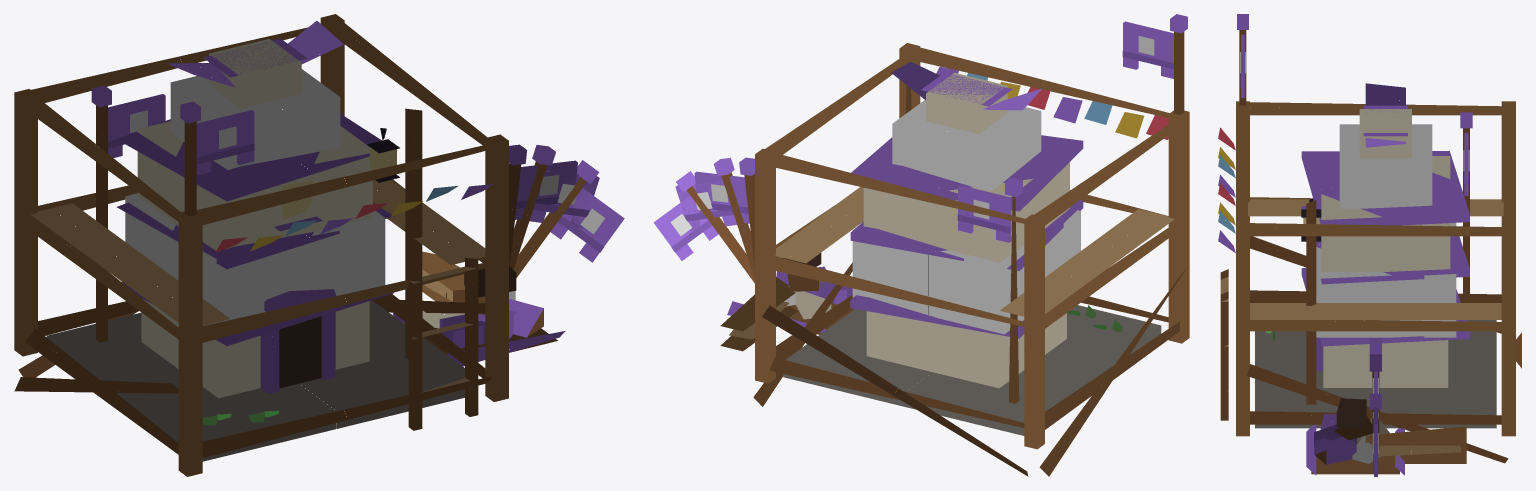
File: moth-home_lod1.glb
The picture shows the model from 3 angles, left to right: view 1: azimuth 30°, elevation 25°; view 2: azimuth 150°, elevation 25°; view 3: azimuth 270°, elevation 25°; orthographic projection. The views are drawn at different scales.
Visible parts, largest first — view 1: scaffold-mesh, built-mesh, dismantle-50-mesh, dismantle-75-mesh, scaffold-banner, dismantle-25-mesh, dismantle-25-banner, flag-pole, banner, dismantle-75-banner, scaffold-flag-pole, dismantle-25-flag-pole (+3 smaller); view 2: scaffold-mesh, built-mesh, dismantle-50-mesh, dismantle-75-mesh, dismantle-25-mesh, scaffold-banner, banner, dismantle-25-banner, flag-pole, dismantle-75-banner, dismantle-25-flag-pole, dismantle-50-banner (+3 smaller); view 3: scaffold-mesh, built-mesh, dismantle-50-mesh, dismantle-75-mesh, dismantle-25-mesh, flag-pole, scaffold-flag-pole, banner, scaffold-banner.
Part boxes in pixels (<box>): scaffold-mesh: <box>14,14,508,476</box>; built-mesh: <box>116,21,422,425</box>; dismantle-50-mesh: <box>47,300,557,441</box>; dismantle-75-mesh: <box>117,175,565,461</box>; scaffold-banner: <box>196,110,254,175</box>; dismantle-25-mesh: <box>205,266,564,460</box>; dismantle-25-banner: <box>550,188,624,262</box>; flag-pole: <box>91,85,111,342</box>; banner: <box>108,94,165,157</box>; dismantle-75-banner: <box>515,160,577,219</box>; scaffold-flag-pole: <box>180,101,200,216</box>; dismantle-25-flag-pole: <box>514,160,599,277</box>; scaffold-mesh: <box>720,43,1189,476</box>; built-mesh: <box>850,62,1117,336</box>; dismantle-50-mesh: <box>784,283,1160,419</box>; dismantle-75-mesh: <box>727,200,1095,435</box>; dismantle-25-mesh: <box>727,253,1115,432</box>; scaffold-banner: <box>1122,21,1173,78</box>; banner: <box>957,185,1011,242</box>; dismantle-25-banner: <box>653,196,718,260</box>; flag-pole: <box>1005,177,1022,403</box>; dismantle-75-banner: <box>694,171,749,223</box>; dismantle-25-flag-pole: <box>676,171,754,283</box>; dismantle-50-banner: <box>675,180,736,231</box>; scaffold-mesh: <box>1218,101,1521,463</box>; built-mesh: <box>1301,83,1469,400</box>; dismantle-50-mesh: <box>1255,320,1496,474</box>; dismantle-75-mesh: <box>1275,206,1450,475</box>; dismantle-25-mesh: <box>1306,398,1404,474</box>; flag-pole: <box>1460,112,1472,302</box>; scaffold-flag-pole: <box>1237,14,1248,105</box>; banner: <box>1463,133,1469,195</box>; scaffold-banner: <box>1240,34,1245,97</box>.
Size of the model in its own units: 2.45 by 1.78 by 1.51.
